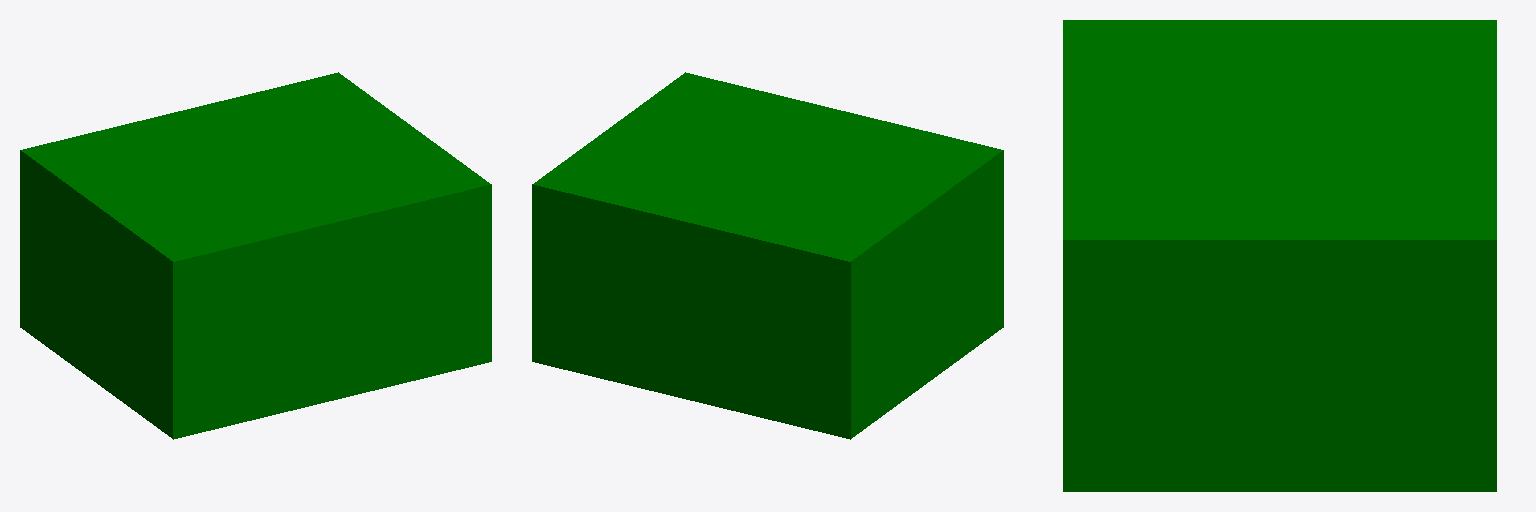
robot.urdf — simple_box:
<?xml version="1.0"?>
<robot name="simple_box">
  <link name="baseLink">
    <inertial>
      <origin xyz="1.5 1.25 0.8"/>
      <mass value="1" />
      <inertia  ixx="0.0001" ixy="0.0"  ixz="0.0"  iyy="0.0001"  iyz="0.0"  izz="0.0001" />
    </inertial>
    <visual>
      <origin xyz="1.5 1.25 0.8"/>
      <material name = 'g'>
        <color rgba="0 0.5 0 1"/>
      </material>
      <geometry>
        <box size="3 2.5 1.6"/>
      </geometry>
    </visual>
    <collision>
      <origin xyz="1.5 1.25 0.8"/>
      <geometry>
        <box size="3 2.5 1.6"/>
      </geometry>
    </collision>
  </link>
  <gazebo reference="baseLink">
    <material>Gazebo/red</material>
  </gazebo>
</robot>

--- Render facts (derived) ---
3 views of the same robot in one strip: view 1: azimuth 30°, elevation 25°; view 2: azimuth 150°, elevation 25°; view 3: azimuth 270°, elevation 25° (orthographic).
Robot: simple_box — 1 links, 0 joints (none); root link baseLink; default pose: every joint at zero.
Links seen in each view (by area): view 1: baseLink; view 2: baseLink; view 3: baseLink.
Boxes of the visible links, x1=… form: baseLink: x1=20, y1=72, x2=491, y2=439; baseLink: x1=532, y1=72, x2=1003, y2=439; baseLink: x1=1063, y1=20, x2=1496, y2=491.
Size in the robot's own frame: 3 by 2.5 by 1.6 metres.
Geometry: primitives only (box / cylinder / sphere), no mesh files.
